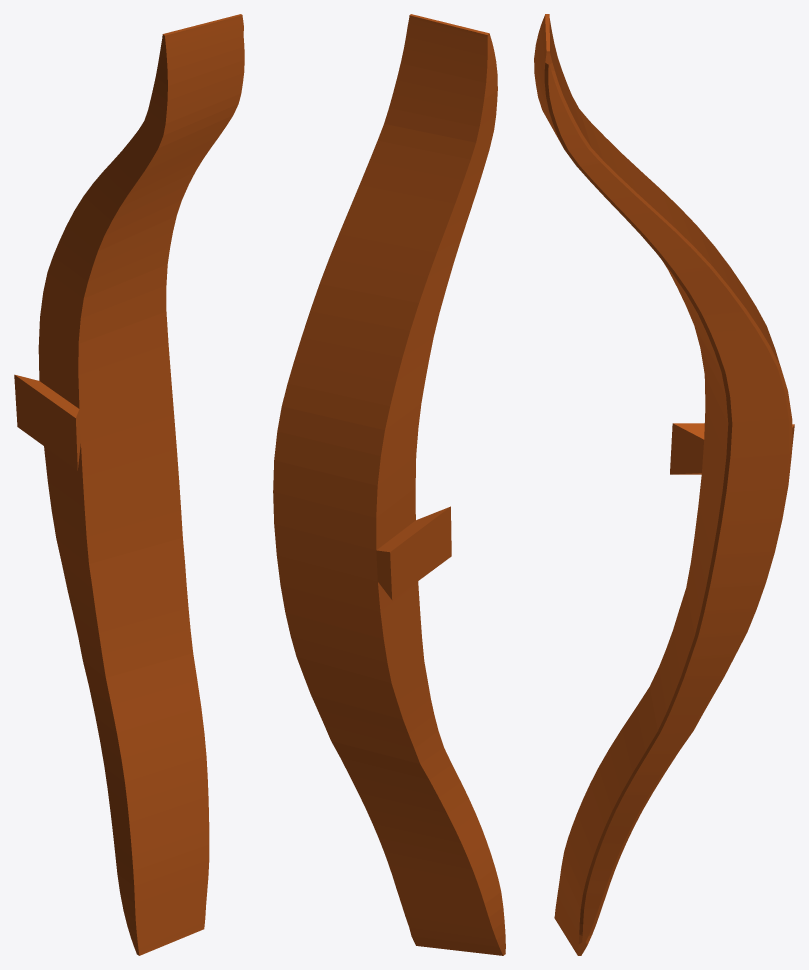
File: CopperVein2.obj
3 renders of one model, left to right at view 1: azimuth 30°, elevation 25°; view 2: azimuth 150°, elevation 25°; view 3: azimuth 270°, elevation 25°, orthographic.
Visible parts, largest first — view 1: Cube.001; view 2: Cube.001; view 3: Cube.001.
Boxes of the visible parts, x1=… form: Cube.001: x1=14, y1=14, x2=244, y2=955; Cube.001: x1=273, y1=14, x2=505, y2=955; Cube.001: x1=534, y1=14, x2=794, y2=955.
Bounding box in the file's own units: 0.3977 × 2.86 × 0.7372.
